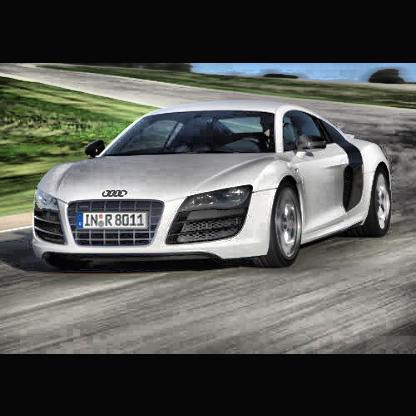Audi R8 Coupe 2012: (33, 100, 393, 268)
